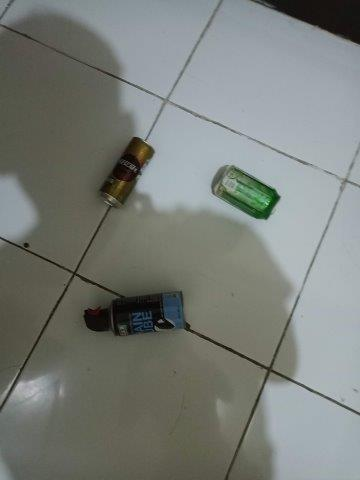kaleng: (98, 136, 156, 208), (213, 164, 281, 220), (110, 290, 186, 337)
